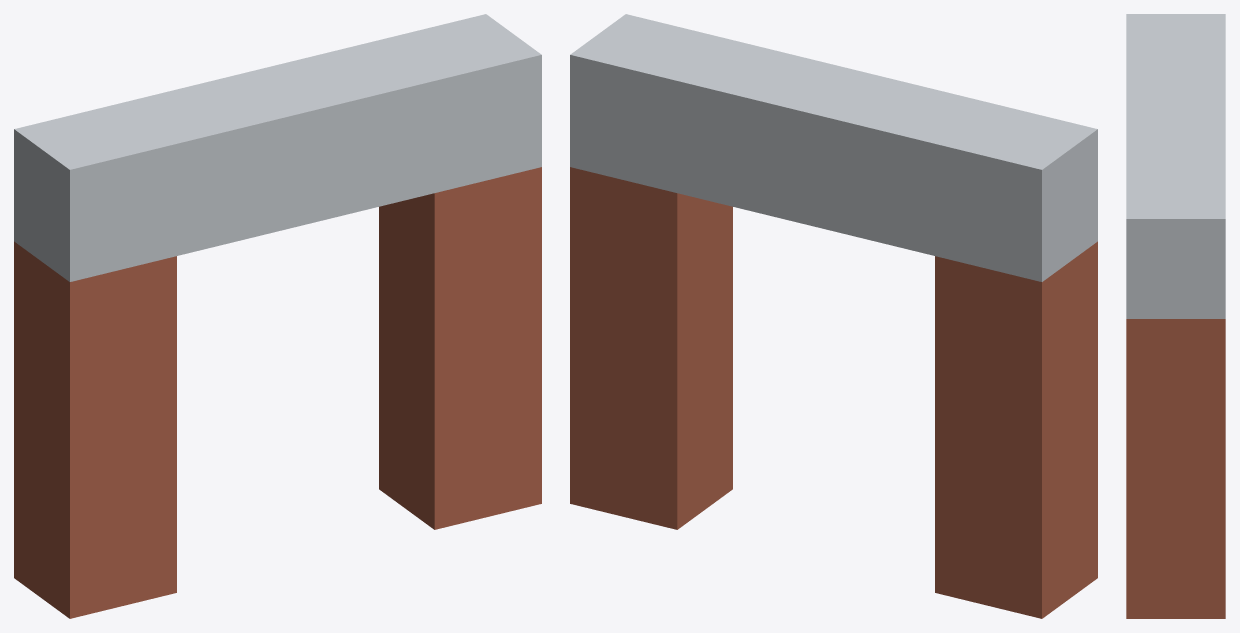
The model's file is block_arch.obj.
The picture shows the model from 3 angles, left to right: view 1: azimuth 30°, elevation 25°; view 2: azimuth 150°, elevation 25°; view 3: azimuth 270°, elevation 25°; orthographic projection. The views are drawn at different scales.
Visible parts, largest first — view 1: BlockArch; view 2: BlockArch; view 3: BlockArch.
Part boxes in pixels (box(x1,y1,x2,y2)): BlockArch: box(14, 14, 541, 618); BlockArch: box(570, 14, 1097, 618); BlockArch: box(1126, 14, 1225, 618).
Size of the model in its own units: 4.4 by 4 by 0.9.
